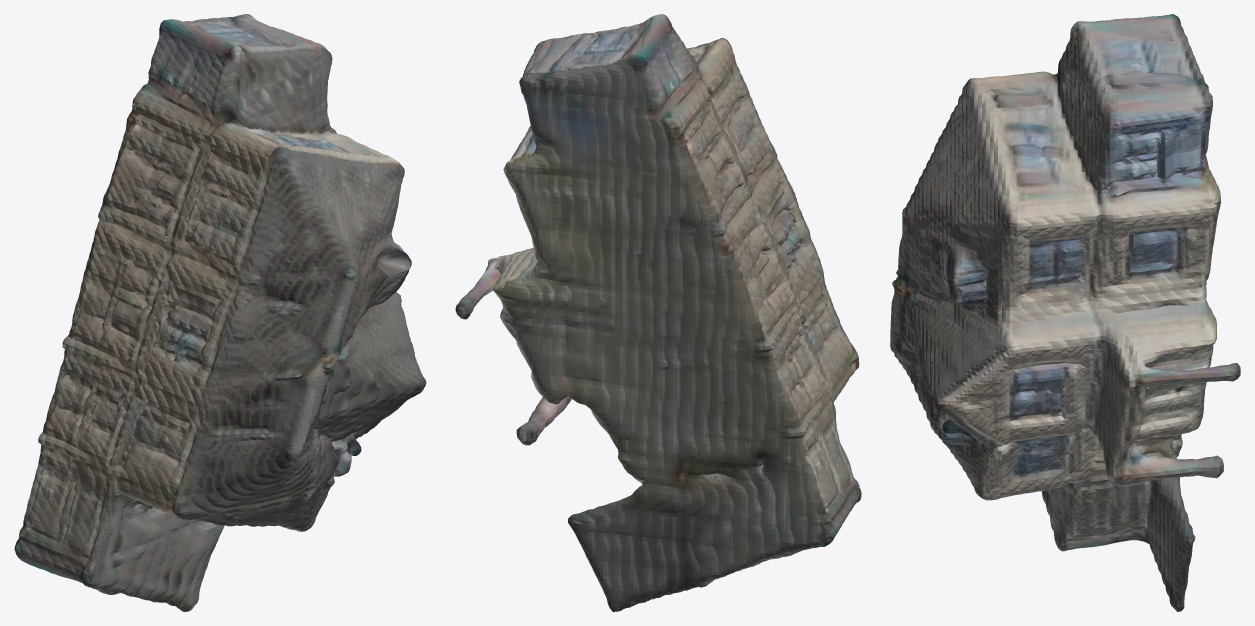
The picture shows the model from 3 angles, left to right: view 1: azimuth 30°, elevation 25°; view 2: azimuth 150°, elevation 25°; view 3: azimuth 270°, elevation 25°; orthographic projection. The views are drawn at different scales.
Visible parts, largest first — view 1: geometry_0; view 2: geometry_0; view 3: geometry_0.
Boxes of the visible parts, box(x1,y1,x2,y2) form: geometry_0: box(14, 14, 426, 611); geometry_0: box(455, 14, 861, 611); geometry_0: box(890, 14, 1240, 611).
Size of the model in its own units: 0.7103 by 1.11 by 0.5998.
